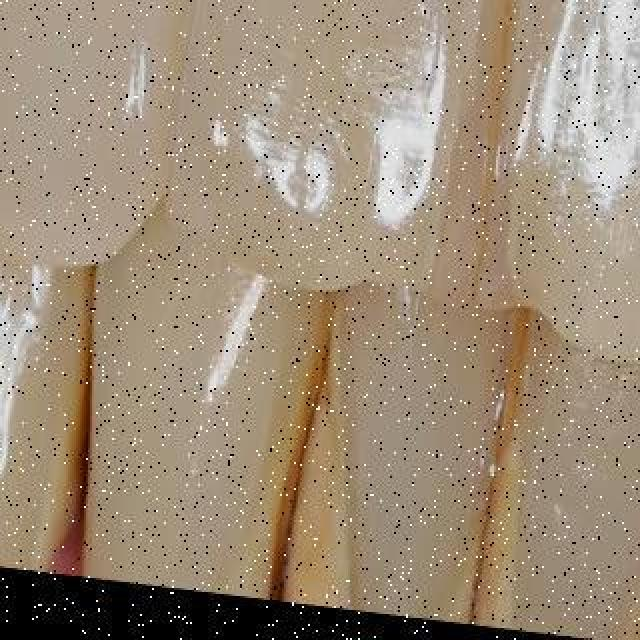calculus: (255, 368, 391, 640), (464, 382, 572, 640)
